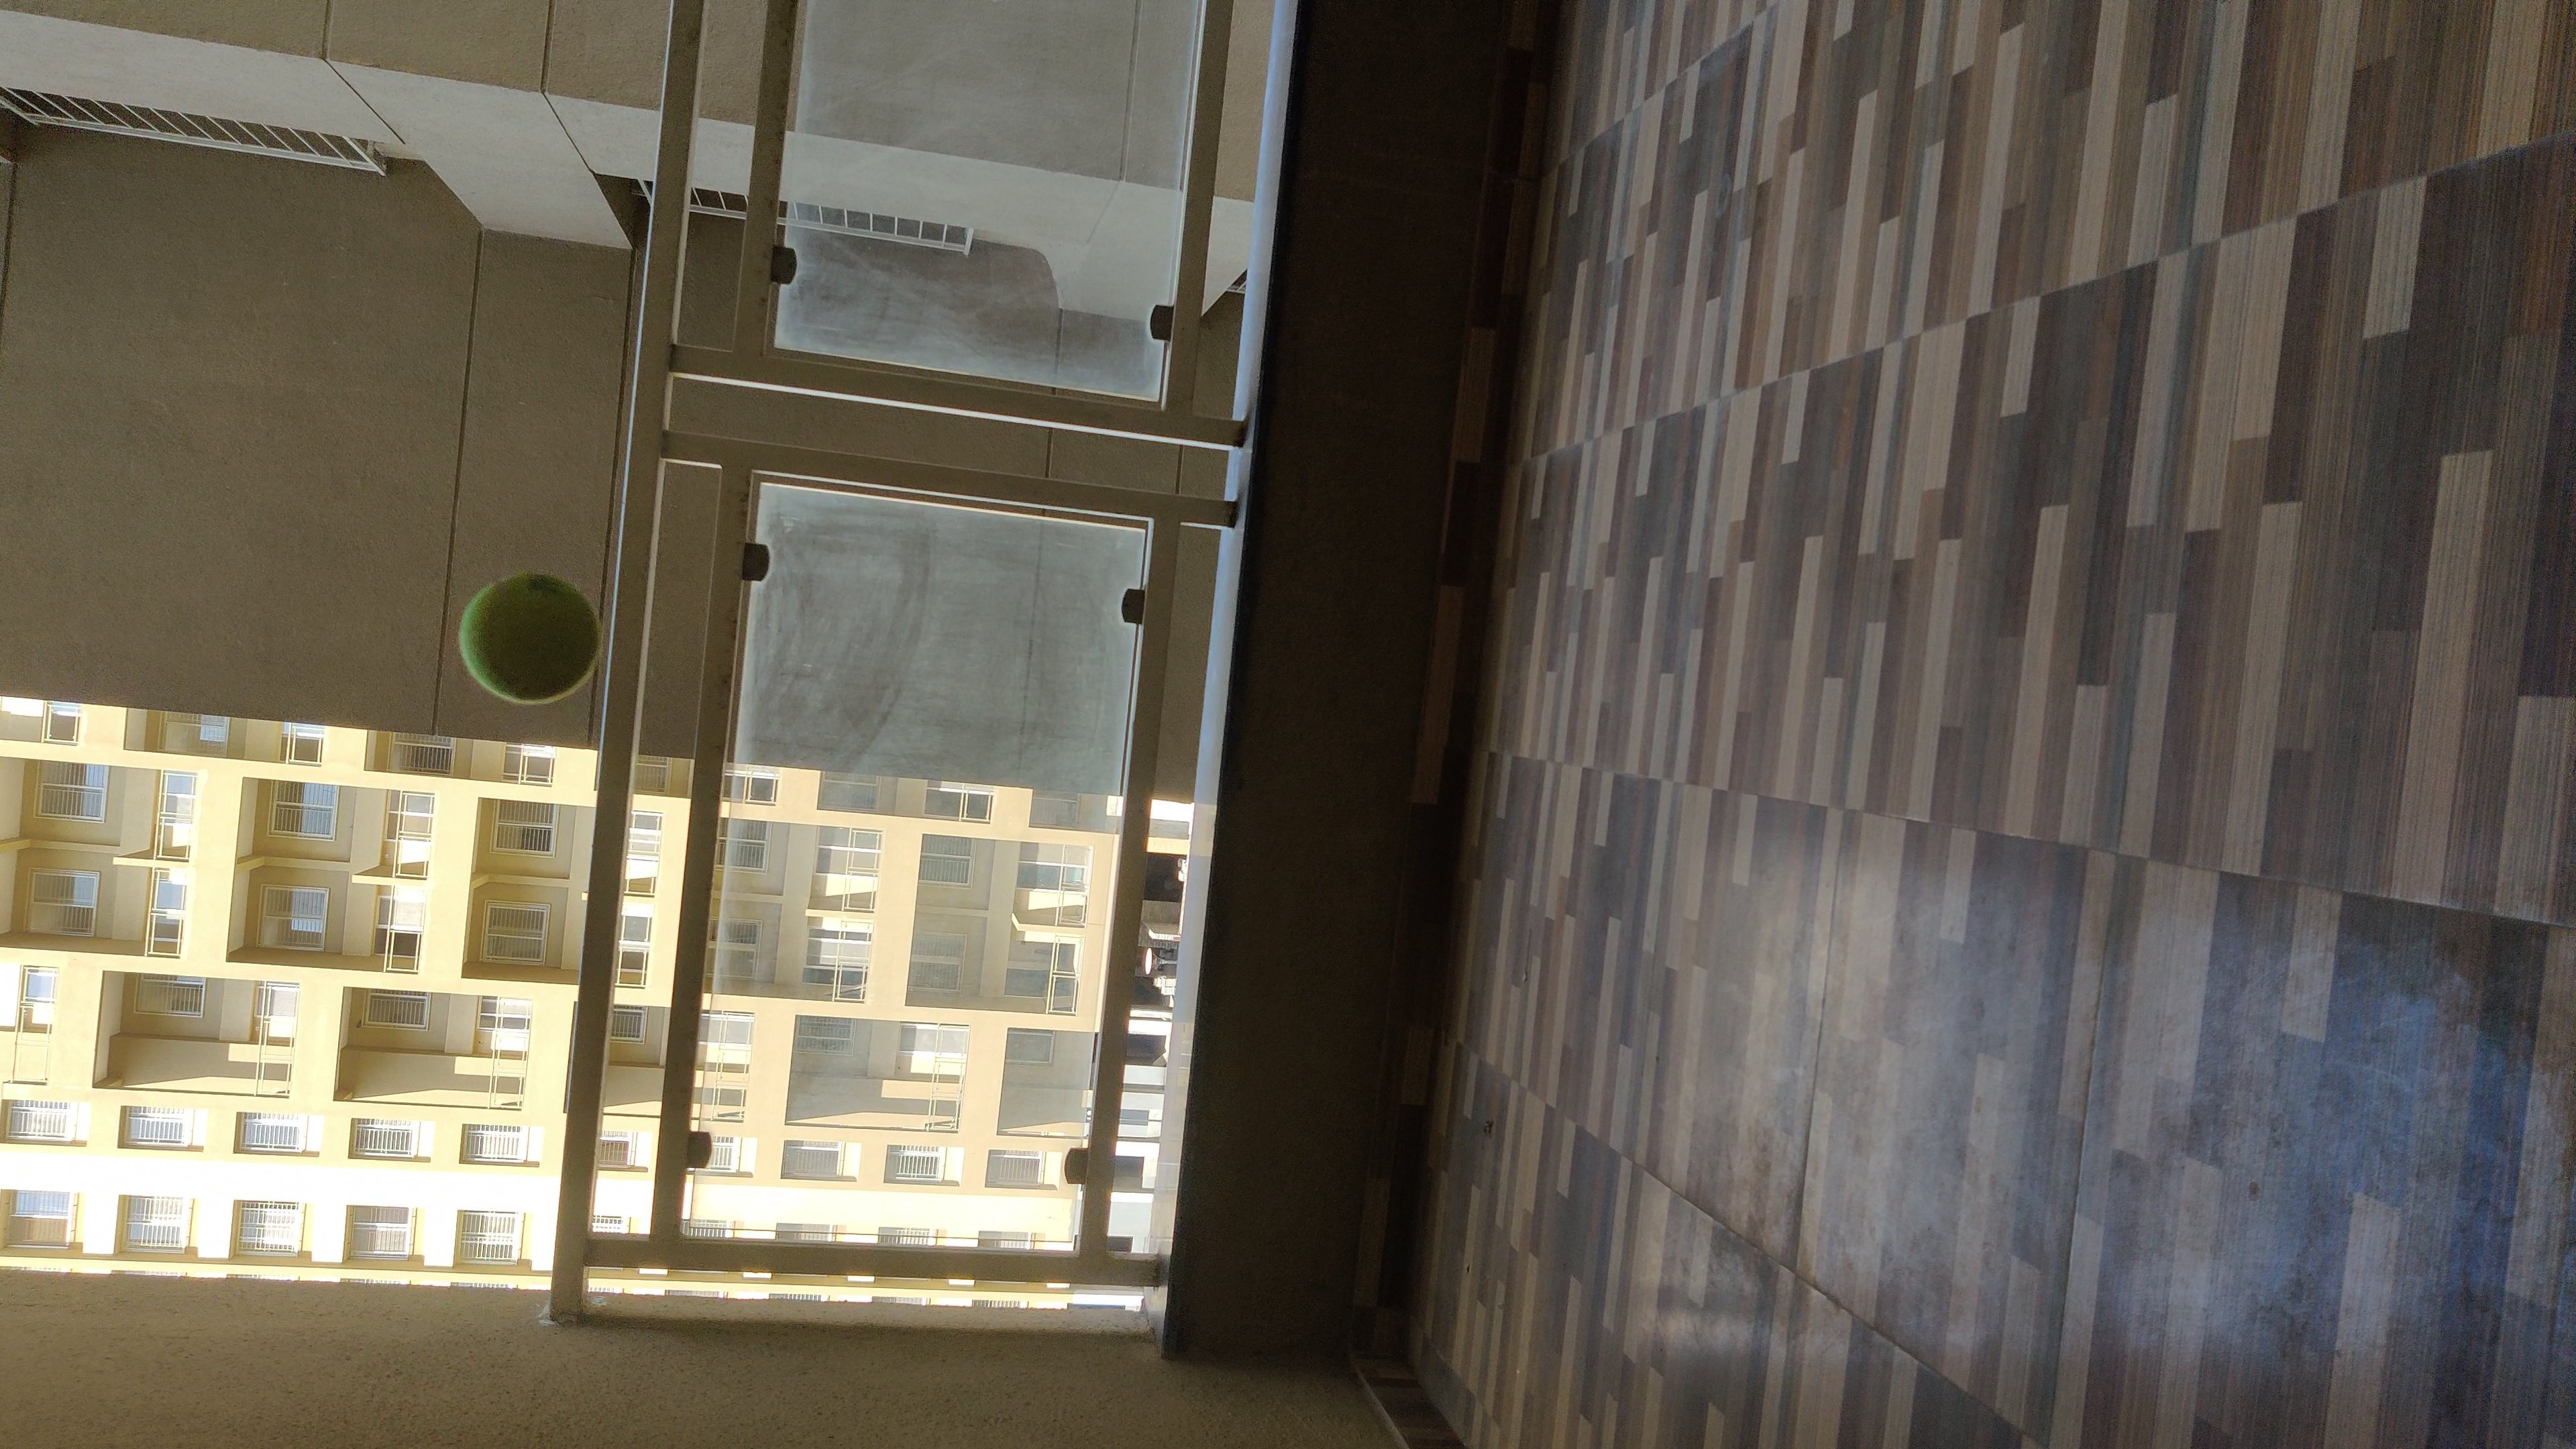Tennis-Ball: (458, 571, 602, 704)
